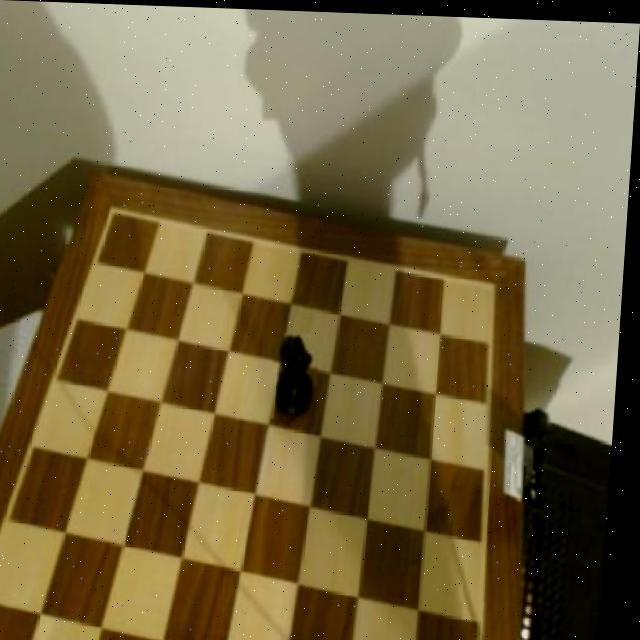black-king: (274, 330, 325, 419)
